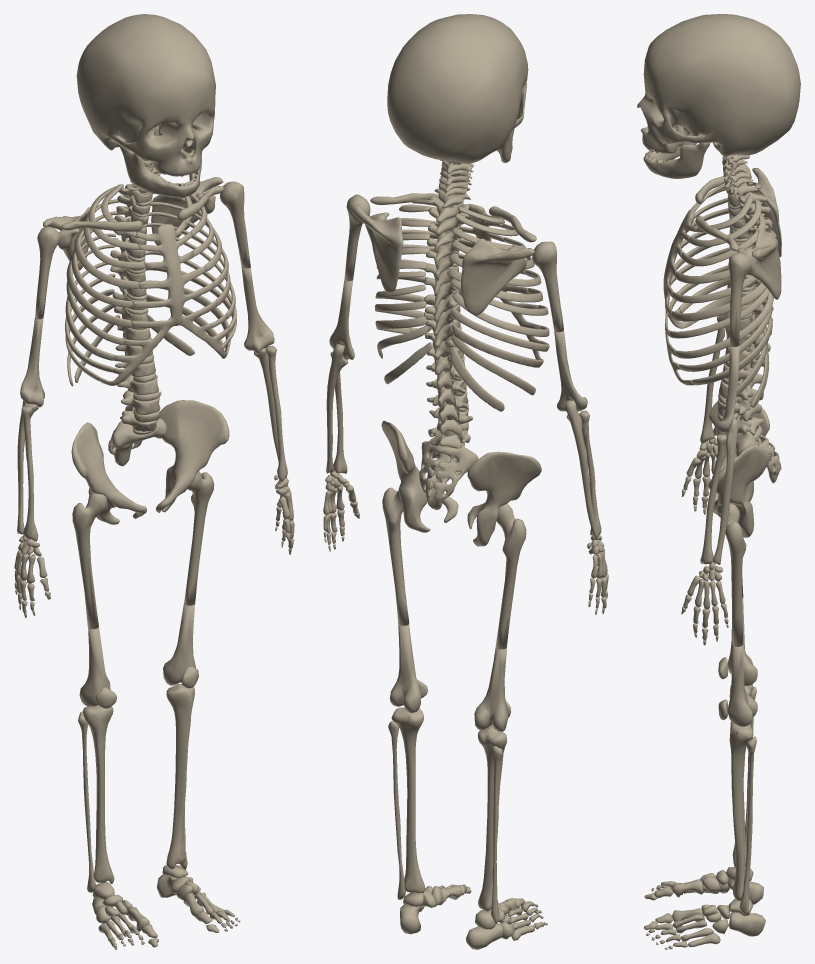
Rendered from pediatric_child_5y_male.skeletal.LOD1.glb.
The picture shows the model from 3 angles, left to right: view 1: azimuth 30°, elevation 25°; view 2: azimuth 150°, elevation 25°; view 3: azimuth 270°, elevation 25°; orthographic projection.
Visible parts, largest first — view 1: PEDIATRIC.CHILD_5Y.MALE.SKELETAL.CRANIUM_CORTICAL, PEDIATRIC.CHILD_5Y.MALE.SKELETAL.RIBS_CORTICAL, PEDIATRIC.CHILD_5Y.MALE.SKELETAL.PELVIS_CORTICAL, PEDIATRIC.CHILD_5Y.MALE.SKELETAL.CARTILAGE_TRUNK, PEDIATRIC.CHILD_5Y.MALE.SKELETAL.TIBIAE_CORTICAL, PEDIATRIC.CHILD_5Y.MALE.SKELETAL.ANKLES_AND_FOOT_CORTICAL, PEDIATRIC.CHILD_5Y.MALE.SKELETAL.FEMORA_UPPER_CORTICAL, PEDIATRIC.CHILD_5Y.MALE.SKELETAL.THORACIC_SPINE_CORTICAL, PEDIATRIC.CHILD_5Y.MALE.SKELETAL.FEMORA_LOWER_CORTICAL, PEDIATRIC.CHILD_5Y.MALE.SKELETAL.WRISTS_AND_HAND_BONES_CORTI, PEDIATRIC.CHILD_5Y.MALE.SKELETAL.HUMERI_LOWER_CORTICAL, PEDIATRIC.CHILD_5Y.MALE.SKELETAL.HUMERI_UPPER_CORTICAL (+9 smaller); view 2: PEDIATRIC.CHILD_5Y.MALE.SKELETAL.CRANIUM_CORTICAL, PEDIATRIC.CHILD_5Y.MALE.SKELETAL.RIBS_CORTICAL, PEDIATRIC.CHILD_5Y.MALE.SKELETAL.PELVIS_CORTICAL, PEDIATRIC.CHILD_5Y.MALE.SKELETAL.SCAPULAE_CORTICAL, PEDIATRIC.CHILD_5Y.MALE.SKELETAL.TIBIAE_CORTICAL, PEDIATRIC.CHILD_5Y.MALE.SKELETAL.THORACIC_SPINE_CORTICAL, PEDIATRIC.CHILD_5Y.MALE.SKELETAL.FEMORA_UPPER_CORTICAL, PEDIATRIC.CHILD_5Y.MALE.SKELETAL.ANKLES_AND_FOOT_CORTICAL, PEDIATRIC.CHILD_5Y.MALE.SKELETAL.FEMORA_LOWER_CORTICAL, PEDIATRIC.CHILD_5Y.MALE.SKELETAL.WRISTS_AND_HAND_BONES_CORTI, PEDIATRIC.CHILD_5Y.MALE.SKELETAL.LUMBAR_SPINE_CORTICAL, PEDIATRIC.CHILD_5Y.MALE.SKELETAL.SACRUM_CORTICAL (+8 smaller); view 3: PEDIATRIC.CHILD_5Y.MALE.SKELETAL.CRANIUM_CORTICAL, PEDIATRIC.CHILD_5Y.MALE.SKELETAL.RIBS_CORTICAL, PEDIATRIC.CHILD_5Y.MALE.SKELETAL.ANKLES_AND_FOOT_CORTICAL, PEDIATRIC.CHILD_5Y.MALE.SKELETAL.WRISTS_AND_HAND_BONES_CORTI, PEDIATRIC.CHILD_5Y.MALE.SKELETAL.PELVIS_CORTICAL, PEDIATRIC.CHILD_5Y.MALE.SKELETAL.SCAPULAE_CORTICAL, PEDIATRIC.CHILD_5Y.MALE.SKELETAL.TIBIAE_CORTICAL, PEDIATRIC.CHILD_5Y.MALE.SKELETAL.CARTILAGE_TRUNK, PEDIATRIC.CHILD_5Y.MALE.SKELETAL.FEMORA_LOWER_CORTICAL, PEDIATRIC.CHILD_5Y.MALE.SKELETAL.RADII_CORTICAL, PEDIATRIC.CHILD_5Y.MALE.SKELETAL.FEMORA_UPPER_CORTICAL, PEDIATRIC.CHILD_5Y.MALE.SKELETAL.LUMBAR_SPINE_CORTICAL (+9 smaller).
Boxes of the visible parts, <box> form: PEDIATRIC.CHILD_5Y.MALE.SKELETAL.CRANIUM_CORTICAL: <box>76,14,215,176</box>; PEDIATRIC.CHILD_5Y.MALE.SKELETAL.RIBS_CORTICAL: <box>65,184,236,386</box>; PEDIATRIC.CHILD_5Y.MALE.SKELETAL.PELVIS_CORTICAL: <box>71,400,229,524</box>; PEDIATRIC.CHILD_5Y.MALE.SKELETAL.CARTILAGE_TRUNK: <box>98,159,229,434</box>; PEDIATRIC.CHILD_5Y.MALE.SKELETAL.TIBIAE_CORTICAL: <box>83,684,194,883</box>; PEDIATRIC.CHILD_5Y.MALE.SKELETAL.ANKLES_AND_FOOT_CORTICAL: <box>92,865,240,949</box>; PEDIATRIC.CHILD_5Y.MALE.SKELETAL.FEMORA_UPPER_CORTICAL: <box>72,471,214,629</box>; PEDIATRIC.CHILD_5Y.MALE.SKELETAL.THORACIC_SPINE_CORTICAL: <box>110,184,152,340</box>; PEDIATRIC.CHILD_5Y.MALE.SKELETAL.FEMORA_LOWER_CORTICAL: <box>79,604,195,706</box>; PEDIATRIC.CHILD_5Y.MALE.SKELETAL.WRISTS_AND_HAND_BONES_CORTI: <box>14,475,294,618</box>; PEDIATRIC.CHILD_5Y.MALE.SKELETAL.HUMERI_LOWER_CORTICAL: <box>20,267,274,407</box>; PEDIATRIC.CHILD_5Y.MALE.SKELETAL.HUMERI_UPPER_CORTICAL: <box>35,181,250,319</box>; PEDIATRIC.CHILD_5Y.MALE.SKELETAL.CRANIUM_CORTICAL: <box>387,14,528,164</box>; PEDIATRIC.CHILD_5Y.MALE.SKELETAL.RIBS_CORTICAL: <box>375,199,549,411</box>; PEDIATRIC.CHILD_5Y.MALE.SKELETAL.PELVIS_CORTICAL: <box>381,420,541,546</box>; PEDIATRIC.CHILD_5Y.MALE.SKELETAL.SCAPULAE_CORTICAL: <box>351,204,534,315</box>; PEDIATRIC.CHILD_5Y.MALE.SKELETAL.TIBIAE_CORTICAL: <box>391,707,506,911</box>; PEDIATRIC.CHILD_5Y.MALE.SKELETAL.THORACIC_SPINE_CORTICAL: <box>424,196,469,375</box>; PEDIATRIC.CHILD_5Y.MALE.SKELETAL.FEMORA_UPPER_CORTICAL: <box>382,483,526,649</box>; PEDIATRIC.CHILD_5Y.MALE.SKELETAL.ANKLES_AND_FOOT_CORTICAL: <box>400,884,547,949</box>; PEDIATRIC.CHILD_5Y.MALE.SKELETAL.FEMORA_LOWER_CORTICAL: <box>390,623,507,731</box>; PEDIATRIC.CHILD_5Y.MALE.SKELETAL.WRISTS_AND_HAND_BONES_CORTI: <box>323,471,608,614</box>; PEDIATRIC.CHILD_5Y.MALE.SKELETAL.LUMBAR_SPINE_CORTICAL: <box>426,360,472,448</box>; PEDIATRIC.CHILD_5Y.MALE.SKELETAL.SACRUM_CORTICAL: <box>419,437,478,510</box>; PEDIATRIC.CHILD_5Y.MALE.SKELETAL.CRANIUM_CORTICAL: <box>637,14,800,156</box>; PEDIATRIC.CHILD_5Y.MALE.SKELETAL.RIBS_CORTICAL: <box>669,182,776,407</box>; PEDIATRIC.CHILD_5Y.MALE.SKELETAL.ANKLES_AND_FOOT_CORTICAL: <box>644,866,765,949</box>; PEDIATRIC.CHILD_5Y.MALE.SKELETAL.WRISTS_AND_HAND_BONES_CORTI: <box>681,437,728,645</box>; PEDIATRIC.CHILD_5Y.MALE.SKELETAL.PELVIS_CORTICAL: <box>708,401,769,537</box>; PEDIATRIC.CHILD_5Y.MALE.SKELETAL.SCAPULAE_CORTICAL: <box>737,168,781,299</box>; PEDIATRIC.CHILD_5Y.MALE.SKELETAL.TIBIAE_CORTICAL: <box>729,684,753,900</box>; PEDIATRIC.CHILD_5Y.MALE.SKELETAL.CARTILAGE_TRUNK: <box>663,156,750,436</box>; PEDIATRIC.CHILD_5Y.MALE.SKELETAL.FEMORA_LOWER_CORTICAL: <box>727,598,757,726</box>; PEDIATRIC.CHILD_5Y.MALE.SKELETAL.RADII_CORTICAL: <box>700,315,726,564</box>; PEDIATRIC.CHILD_5Y.MALE.SKELETAL.FEMORA_UPPER_CORTICAL: <box>725,503,746,646</box>; PEDIATRIC.CHILD_5Y.MALE.SKELETAL.LUMBAR_SPINE_CORTICAL: <box>717,344,764,435</box>.
Size of the model in its own units: 0.3465 by 1.09 by 0.1792.
